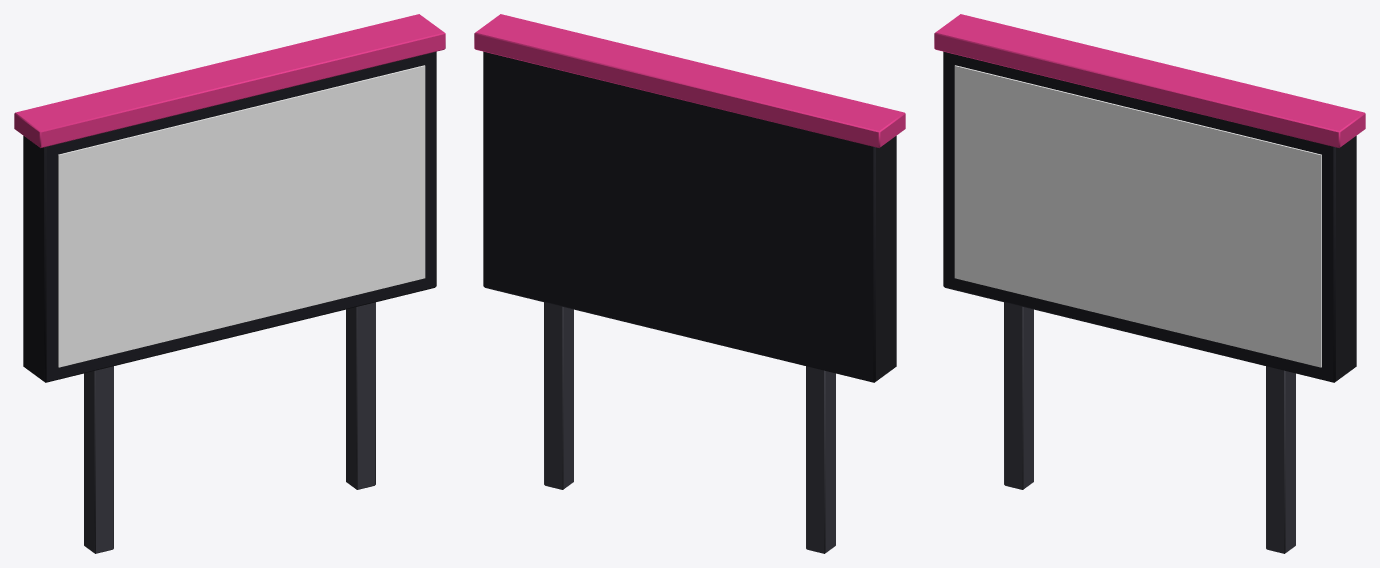
Rendered from jumbotron.glb.
3 views of the same model, side by side, from view 1: azimuth 30°, elevation 25°; view 2: azimuth 150°, elevation 25°; view 3: azimuth 330°, elevation 25° (orthographic).
Parts seen in each view (by area): view 1: jumbotron; view 2: jumbotron; view 3: jumbotron.
Part boxes in pixels (bbox=[...]): jumbotron: bbox=[14, 14, 445, 553]; jumbotron: bbox=[474, 14, 905, 553]; jumbotron: bbox=[934, 14, 1365, 553].
Bounding box in the file's own units: 12.4 × 12.95 × 1.4.
